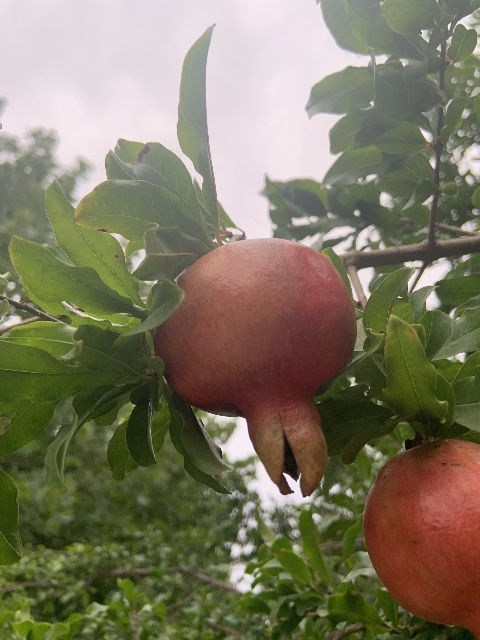ripe: (153, 238, 356, 499), (363, 438, 479, 640)
